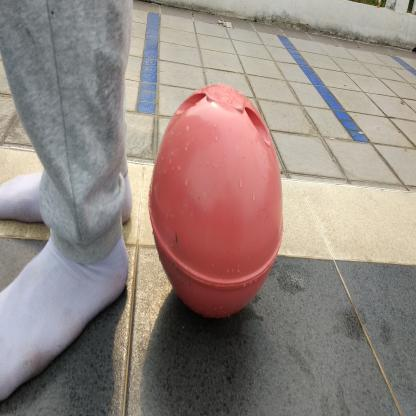red_buoy: (143, 74, 293, 331)
